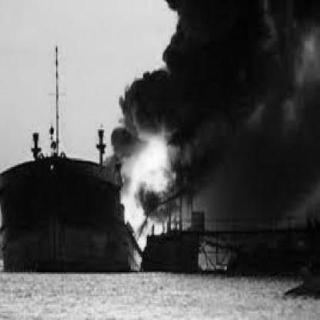Fire: (111, 132, 191, 262)
Smoke: (110, 0, 318, 133)
